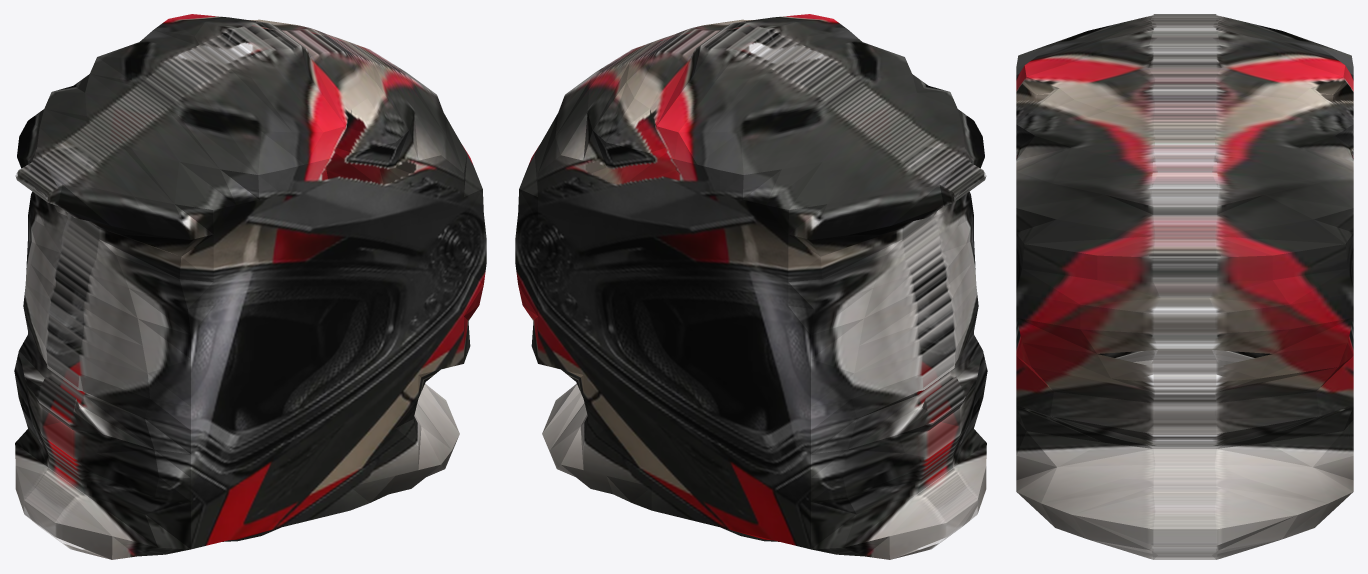
Rendered from tcx-apex-urban-helmet-073.glb.
3 views of the same model, side by side, from view 1: azimuth 30°, elevation 25°; view 2: azimuth 150°, elevation 25°; view 3: azimuth 270°, elevation 25° (orthographic). The views are drawn at different scales.
Visible parts, largest first — view 1: world; view 2: world; view 3: world.
Part boxes in pixels (x1,y1,x2,y2): world: (14,14,486,559); world: (515,14,987,559); world: (1016,14,1353,559).
Size of the model in its own units: 0.9347 by 1 by 0.64.
1 material, 1 textured.
